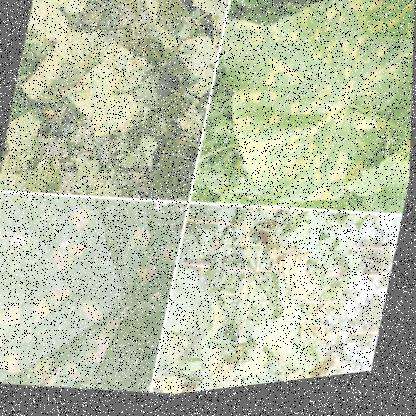DownyMildew: (0, 181, 147, 404), (242, 22, 364, 186)
